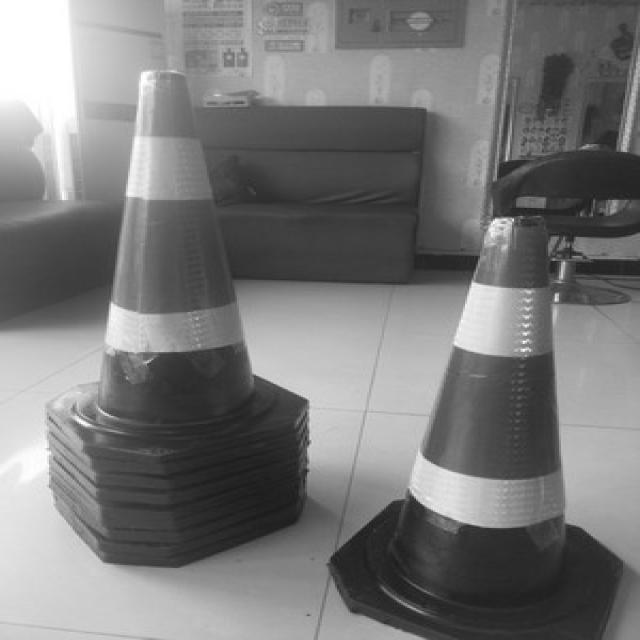reflective_cone: (326, 212, 623, 638), (41, 68, 310, 450)
